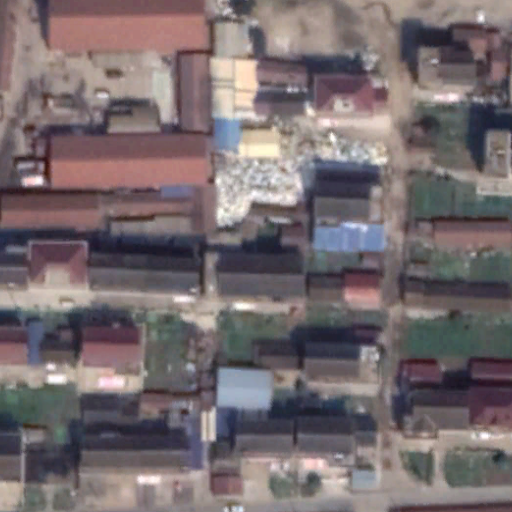msw: (211, 132, 388, 224)
